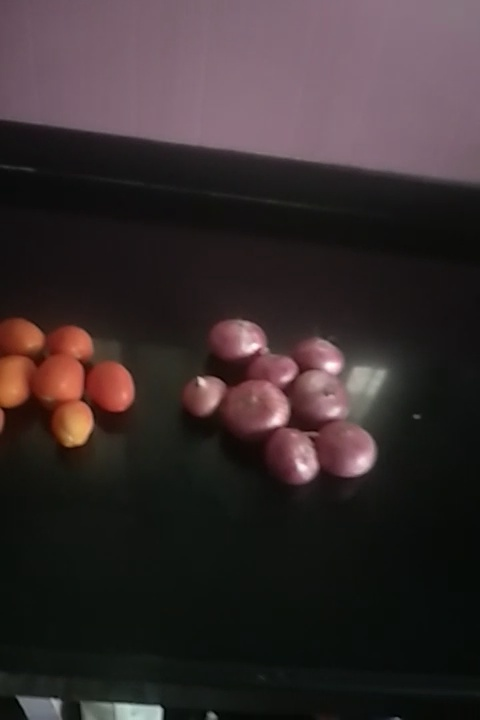onion: (286, 369, 365, 425), (260, 424, 325, 488), (320, 424, 382, 487), (294, 333, 366, 383), (227, 377, 287, 434), (211, 319, 269, 367), (176, 367, 227, 419), (249, 347, 297, 387)
tomato: (86, 360, 139, 418), (42, 326, 101, 364), (42, 358, 86, 406), (1, 358, 41, 409), (55, 400, 92, 450), (1, 321, 44, 362)
